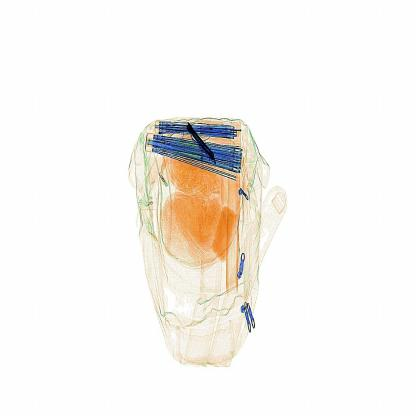knife: (186, 121, 218, 168)
